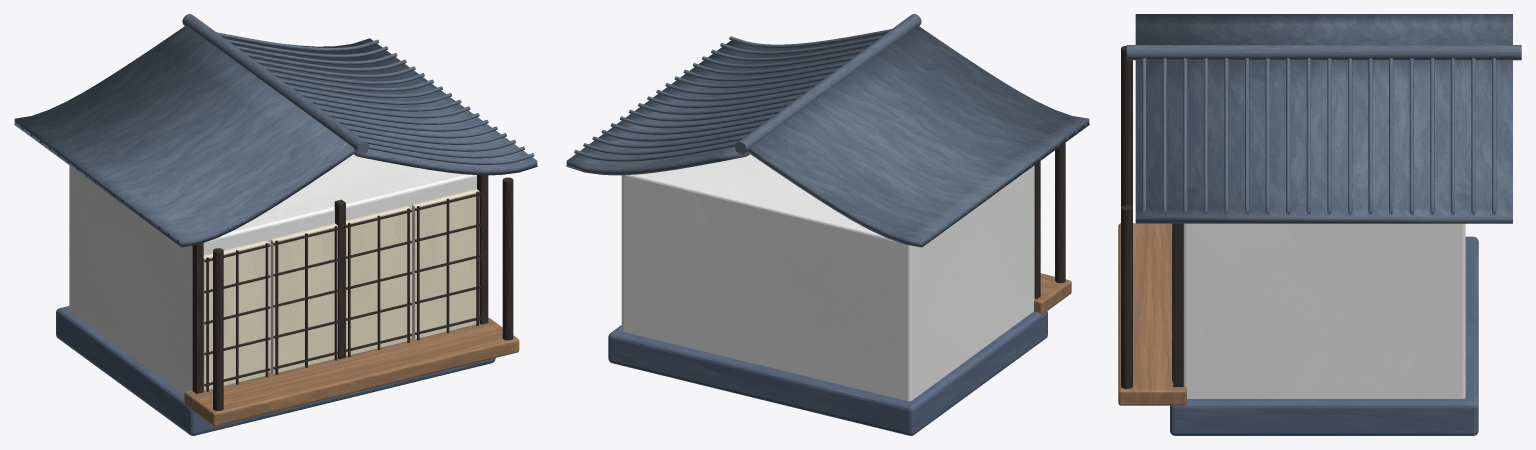
Rendered from house.glb.
3 views of the same model, side by side, from view 1: azimuth 30°, elevation 25°; view 2: azimuth 150°, elevation 25°; view 3: azimuth 270°, elevation 25° (orthographic). The views are drawn at different scales.
Parts seen in each view (by area): view 1: house; view 2: house; view 3: house.
Boxes of the visible parts, x1=… form: house: x1=14, y1=14, x2=537, y2=435; house: x1=566, y1=14, x2=1089, y2=435; house: x1=1118, y1=14, x2=1521, y2=435.
Size of the model in its own units: 5.41 by 3.96 by 4.7.
Materials: 1 (1 with a texture image).
